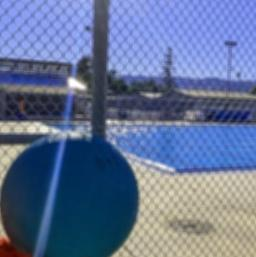algae: (0, 134, 144, 257)
